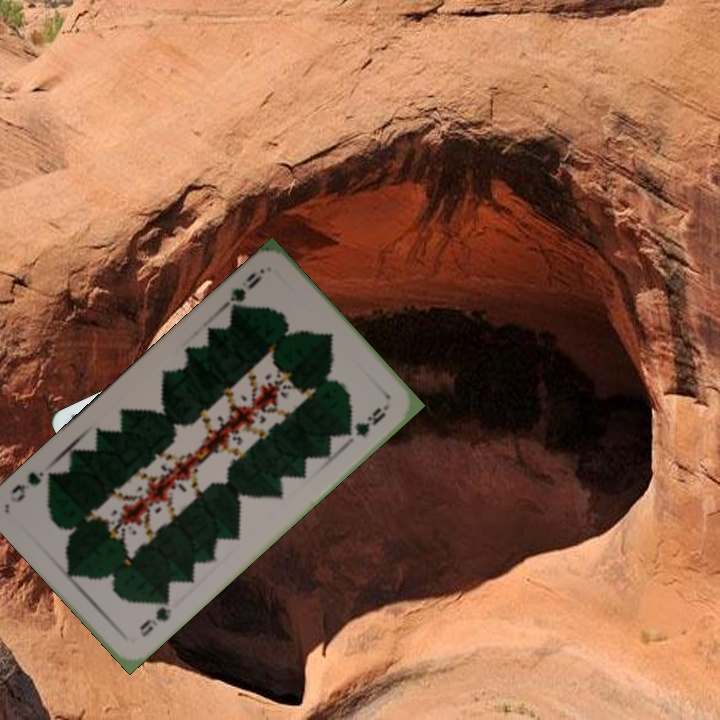G9: (219, 264, 268, 317), (135, 593, 174, 640)
